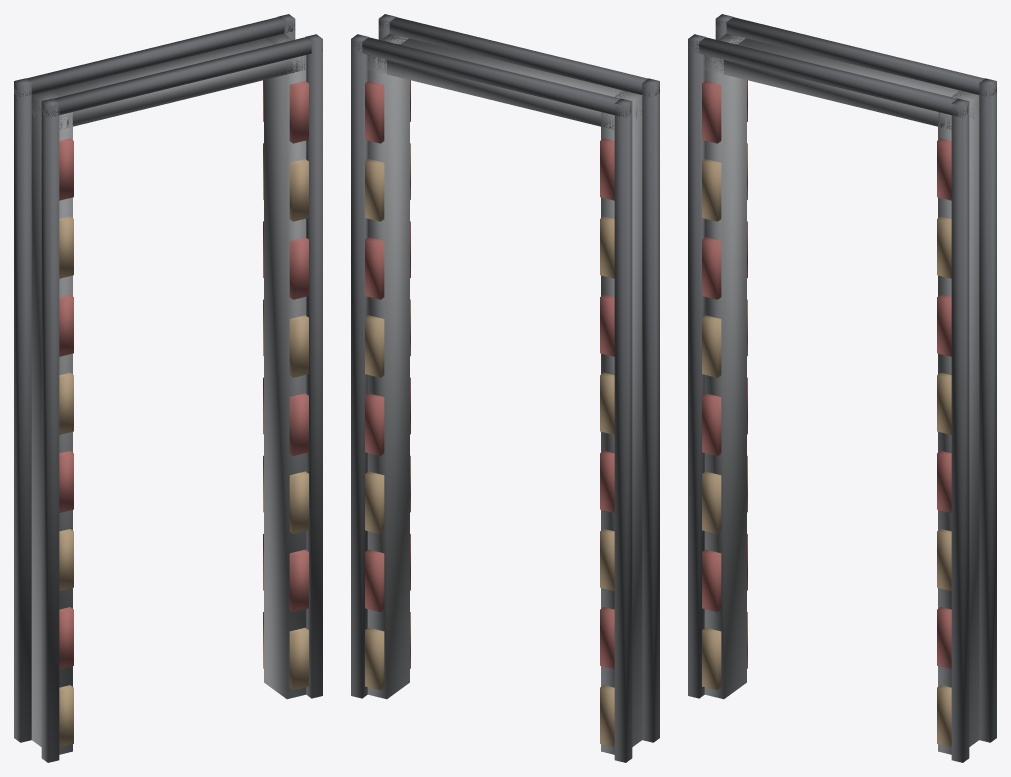
File: doorway_brick_return_w86_h240_d16.glb
3 renders of one model, left to right at view 1: azimuth 30°, elevation 25°; view 2: azimuth 150°, elevation 25°; view 3: azimuth 330°, elevation 25°, orthographic.
Parts seen in each view (by area): view 1: world; view 2: world; view 3: world.
Part boxes in pixels (<box>): world: <box>14,14,322,762</box>; world: <box>351,14,659,762</box>; world: <box>688,14,996,762</box>.
Bounding box in the file's own units: 1.1 × 2.52 × 0.2365.
